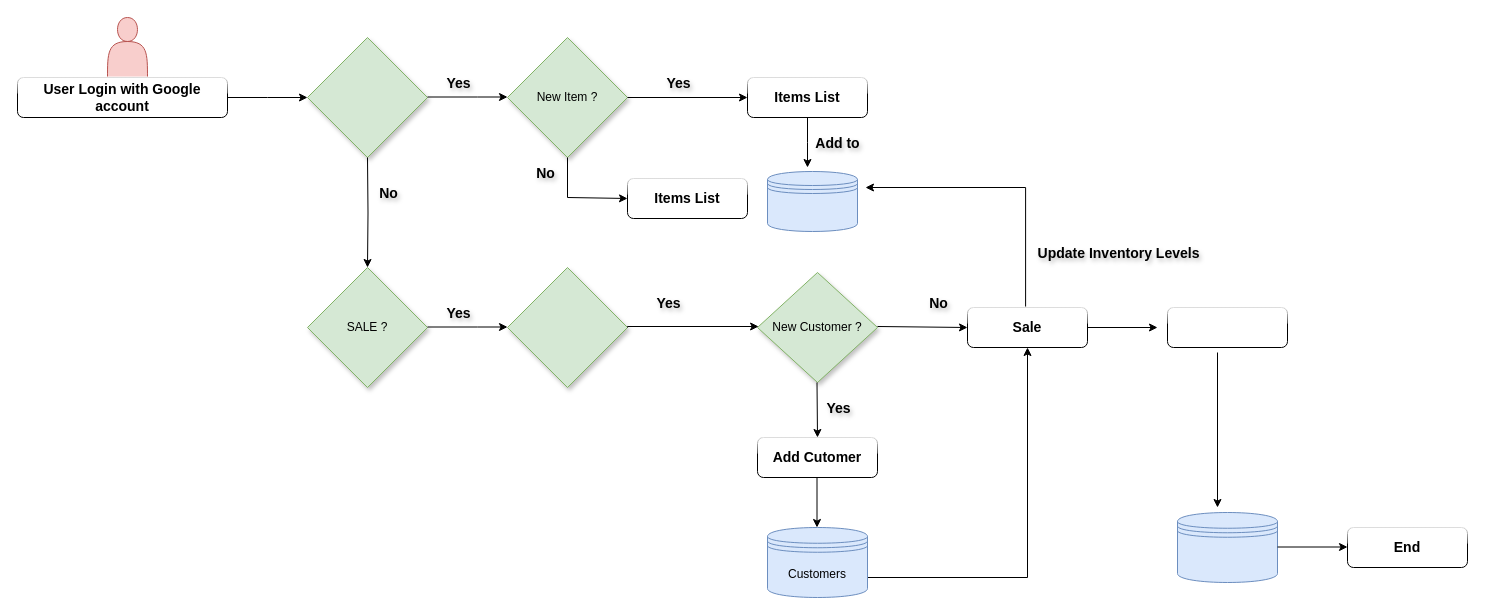
Image size: 1485x615. Some labels were removed from this diagram. Each missing label, with the centre of its shape:
"Accounting" belongs at (x=1227, y=327).
"Add Inventory ?" belongs at (x=368, y=98).
"Inventory" belongs at (x=812, y=201).
"Orders" belongs at (x=1227, y=547).
"Product Available ?" belongs at (x=568, y=328).
